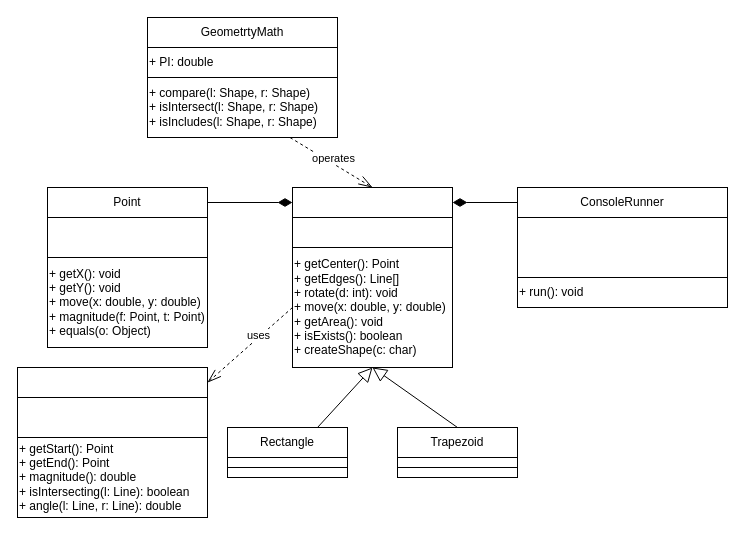
Some shapes in this 745 by 535 pixel diagram are drawn without their labels. Each missing label, with the centre of its shape:
"# points: Point[]" goes at pixel 372 232.
"+ start: Point + end: Point" goes at pixel 112 417.
"- first: Shape - second: Shape - sc: Scanner" goes at pixel 622 247.
"- x: double - y: double" goes at pixel 127 237.
"Line" goes at pixel 112 382.
"Shape" goes at pixel 372 202.
